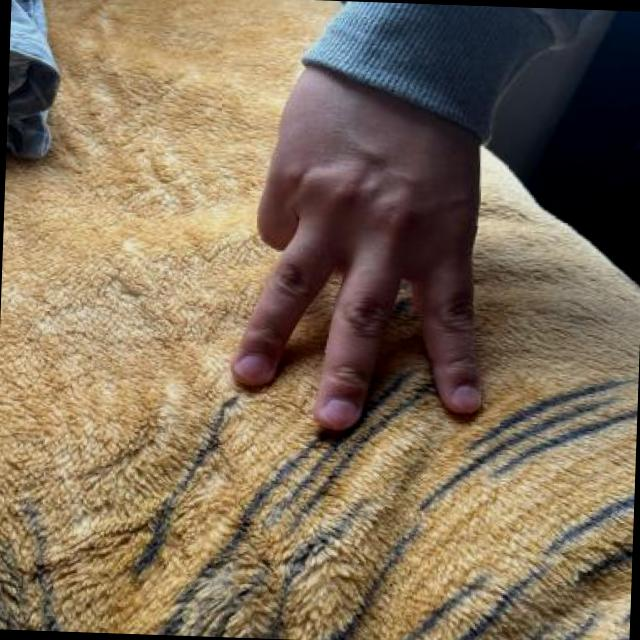M: (210, 13, 514, 440)
